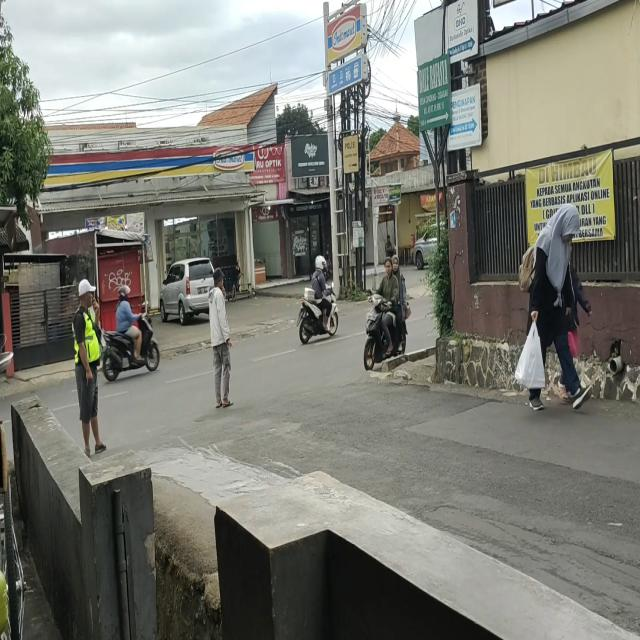helmet: (118, 286, 130, 300), (316, 256, 326, 268)
no-helmet: (384, 258, 393, 276), (392, 255, 398, 272)
